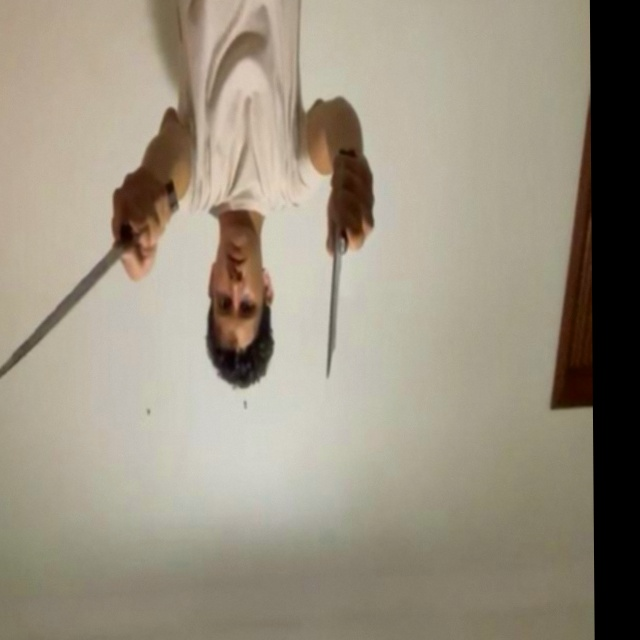Sharp-Object: (0, 243, 125, 394), (325, 236, 346, 377)
